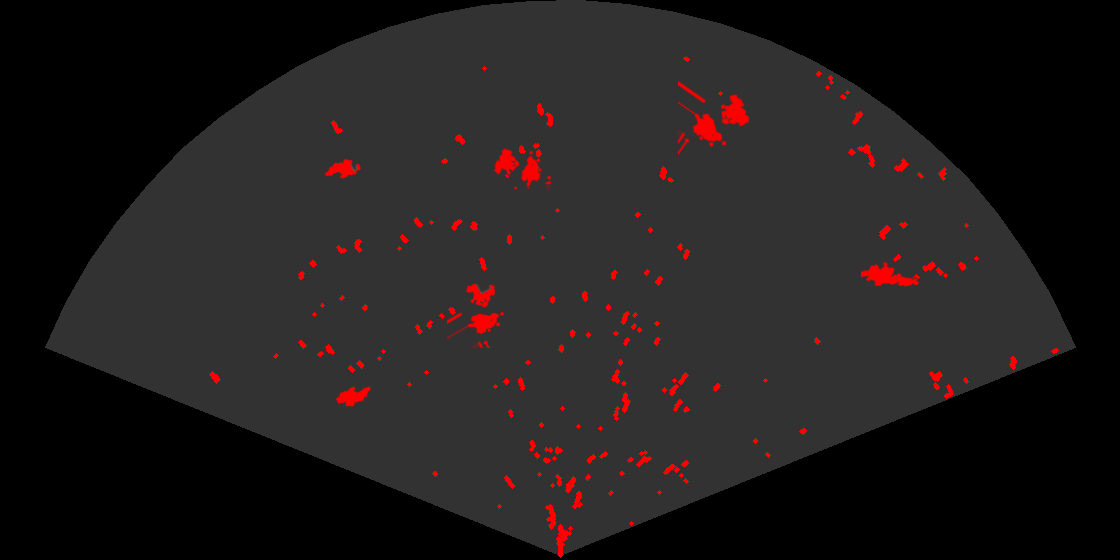AUV: (323, 157, 363, 180), (334, 385, 373, 408)
cage: (678, 79, 751, 157), (447, 282, 506, 348), (492, 146, 551, 189)
frogman: (861, 260, 921, 288)
